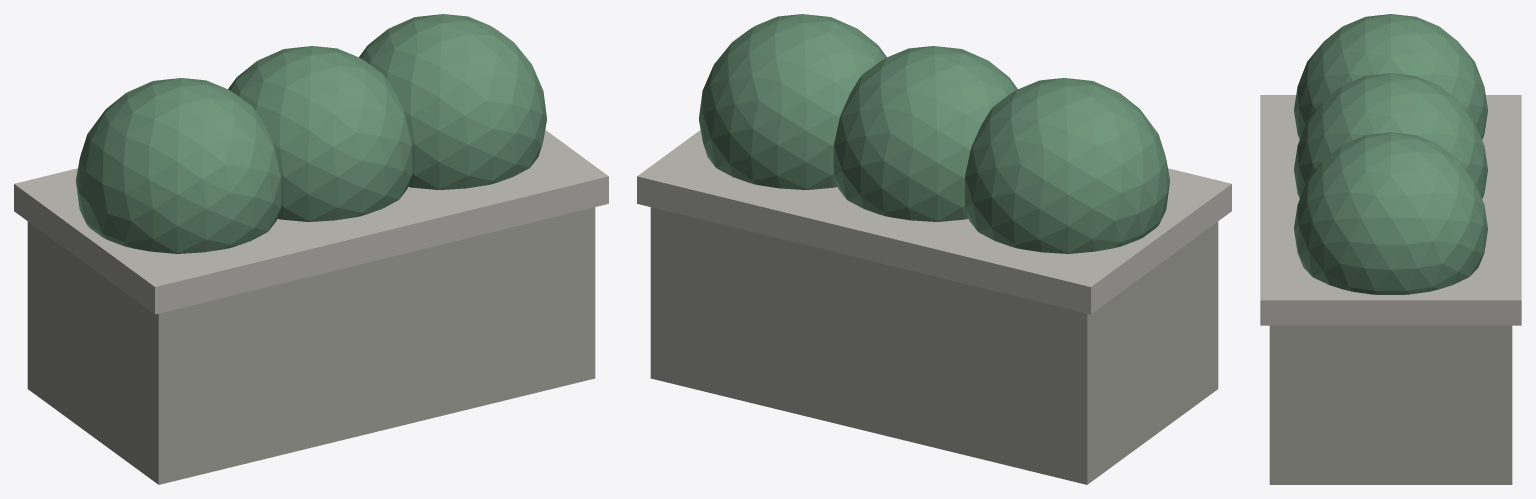
The model's file is planter.glb.
3 views of the same model, side by side, from view 1: azimuth 30°, elevation 25°; view 2: azimuth 150°, elevation 25°; view 3: azimuth 270°, elevation 25° (orthographic). The views are drawn at different scales.
Parts seen in each view (by area): view 1: m0, m1, m2, m4, m3; view 2: m0, m1, m2, m4, m3; view 3: m0, m4, m1, m3, m2.
Part boxes in pixels (x1,y1,x2,y2): m0: (27,207,595,484); m1: (14,130,608,314); m2: (76,78,281,253); m4: (359,14,546,189); m3: (228,46,412,221); m0: (650,207,1218,484); m1: (637,130,1231,314); m2: (964,78,1169,253); m4: (699,14,886,189); m3: (833,46,1017,221); m0: (1269,325,1512,484); m4: (1294,132,1487,294); m1: (1260,95,1521,325); m3: (1294,73,1487,198); m2: (1294,14,1487,139).
Size of the model in its own units: 2.6 by 1.8 by 1.4.
